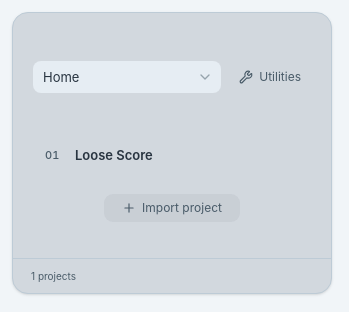
Test: Sidebar capacity caps (v1.2.1 #26, menu since v1.2.2 #28) › keeps folder creation available beyond the old total-folder cap
Step 1. Right-click the dropdown with test id "folder-picker" → (127, 77), box [33,61,221,93]
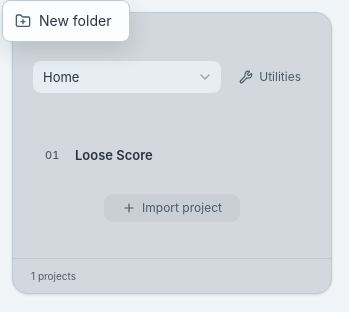
Step 2. Click the menu item with test id "menu-new-folder" → (63, 20), box [15,12,111,29]
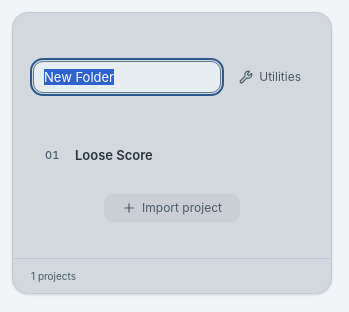
Check: the field with test id "folder-name-input" holds "New Folder", box [33,61,221,93]
